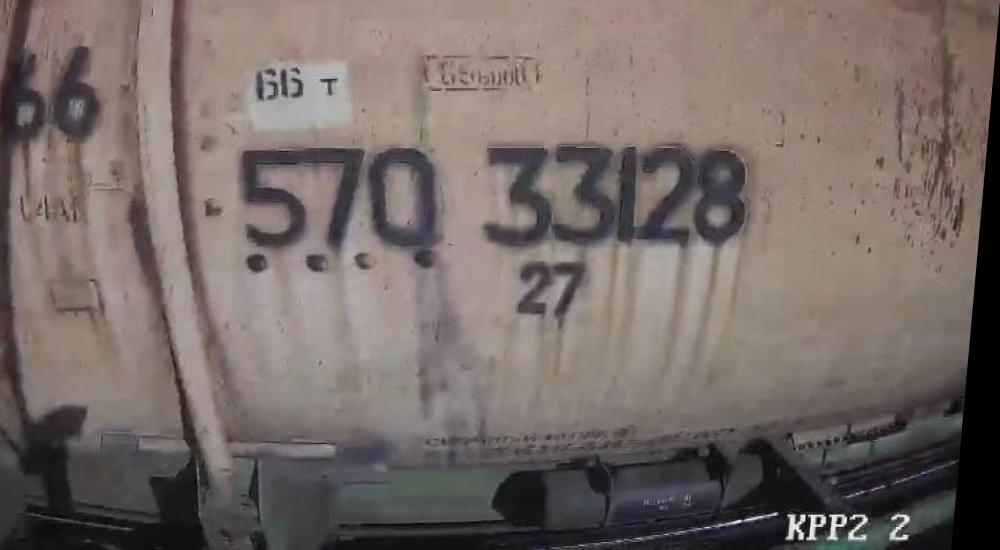Wagon-number: (235, 141, 766, 254)
